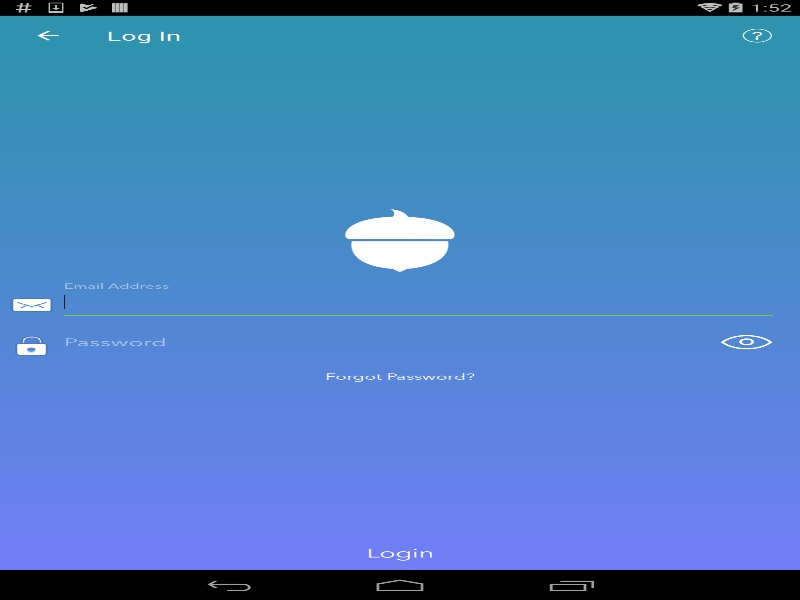Button: (0, 536, 800, 570), (0, 361, 800, 391), (10, 15, 85, 55)
Input: (0, 281, 773, 321), (0, 321, 773, 361)
